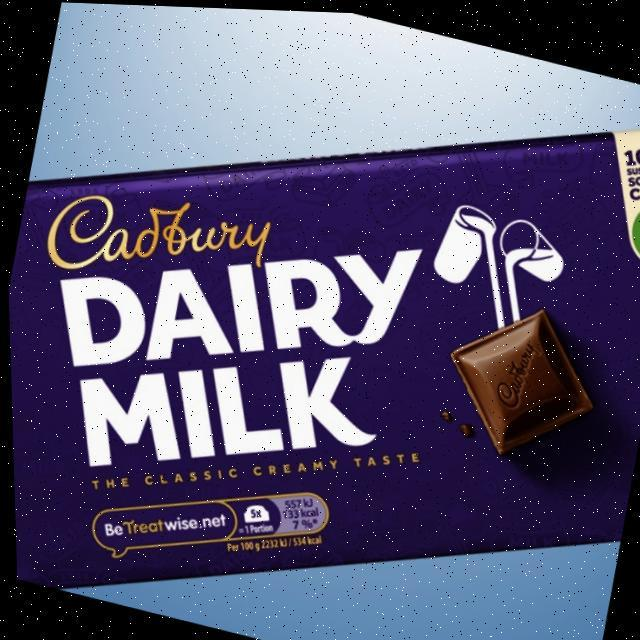cadbury_chocolate: (15, 195, 630, 553)
